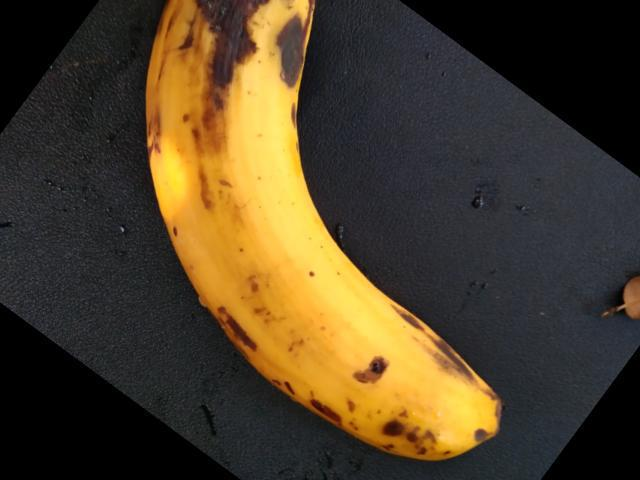overripe: (136, 76, 514, 475)
rotten: (125, 0, 368, 172)
